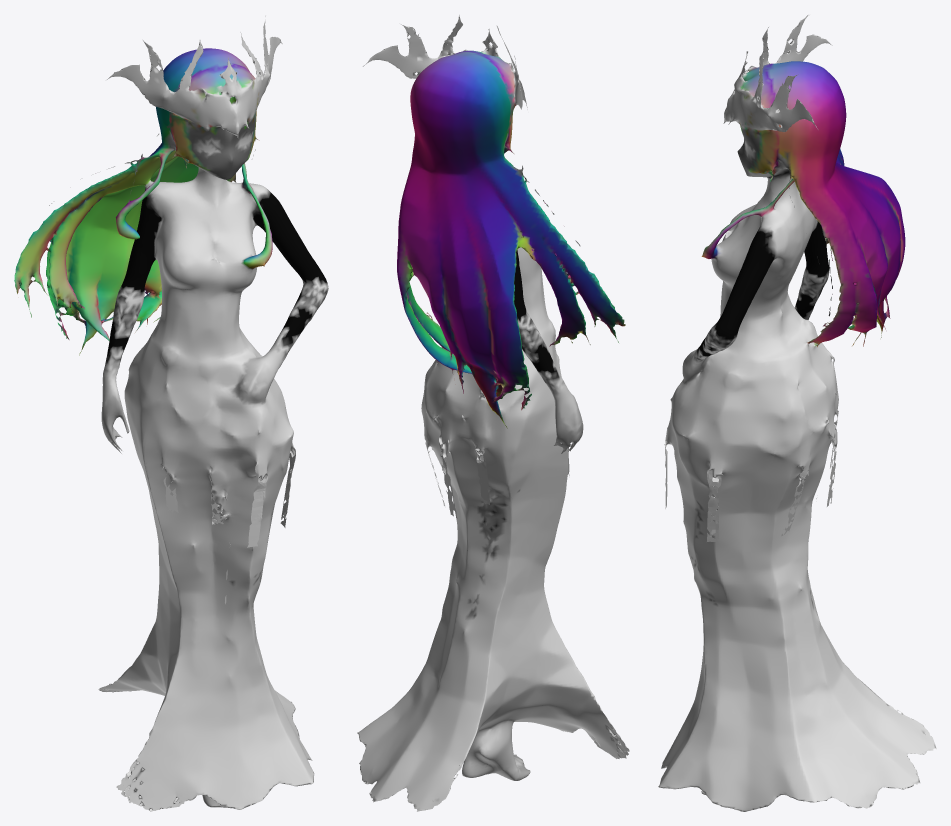
Rendered from SK_Cartoon_52_H.FBX.
3 renders of one model, left to right at view 1: azimuth 30°, elevation 25°; view 2: azimuth 150°, elevation 25°; view 3: azimuth 270°, elevation 25°, orthographic.
Visible parts, largest first — view 1: SK_Cartoon_Female_0520; view 2: SK_Cartoon_Female_0520; view 3: SK_Cartoon_Female_0520.
Boxes of the visible parts, x1,y1,x2,y2 form: SK_Cartoon_Female_0520: [14, 15, 328, 811]; SK_Cartoon_Female_0520: [357, 15, 629, 811]; SK_Cartoon_Female_0520: [658, 15, 936, 811].
Size of the model in its own units: 65.7 by 175 by 57.72.
